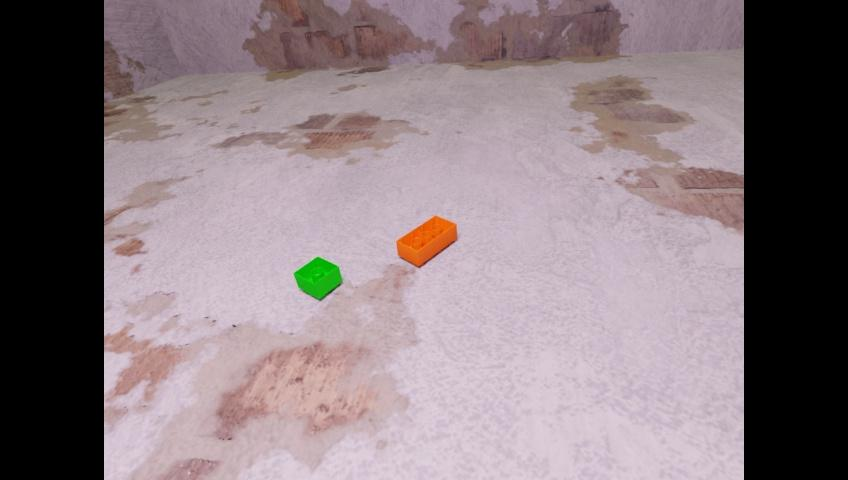2x2_green: (293, 255, 341, 298)
4x2_orange: (397, 216, 458, 267)
